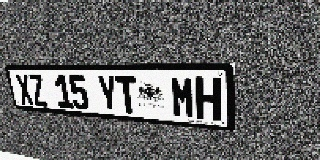1: (52, 75, 74, 109)
5: (68, 75, 90, 110)
H: (195, 77, 221, 121)
M: (170, 76, 196, 119)
T: (115, 76, 139, 114)
X: (14, 74, 35, 105)
Y: (96, 75, 119, 113)
Z: (28, 74, 48, 107)
